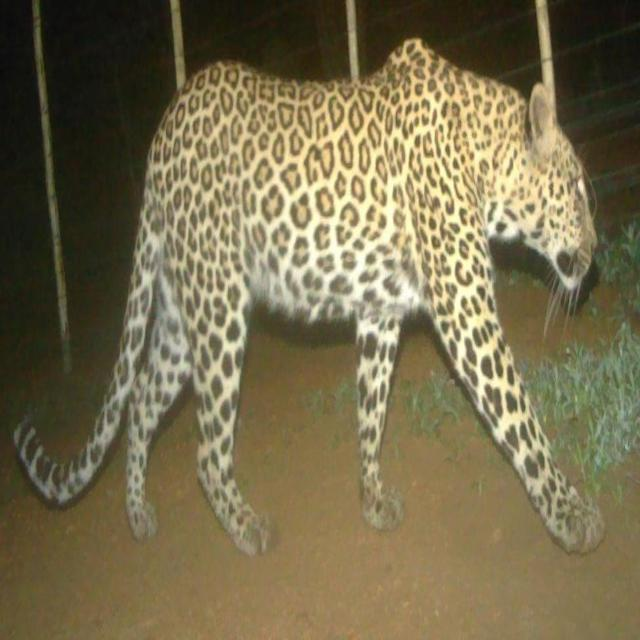Leopard: (26, 51, 620, 591)
